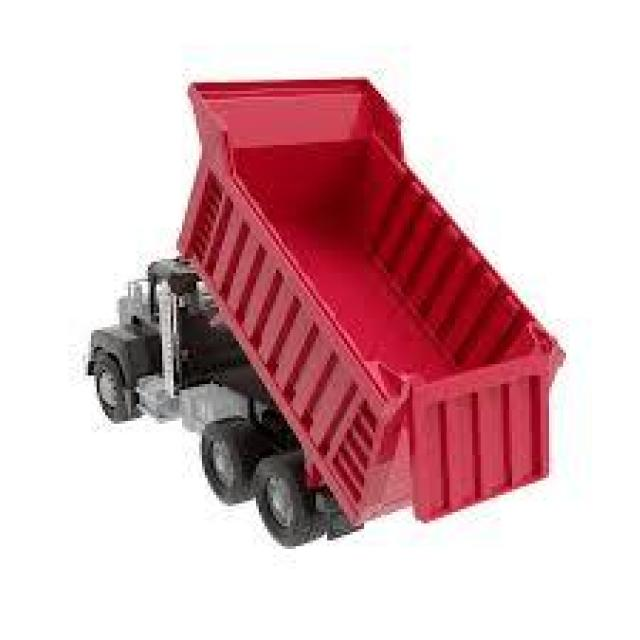dump_truck: (64, 72, 572, 564)
